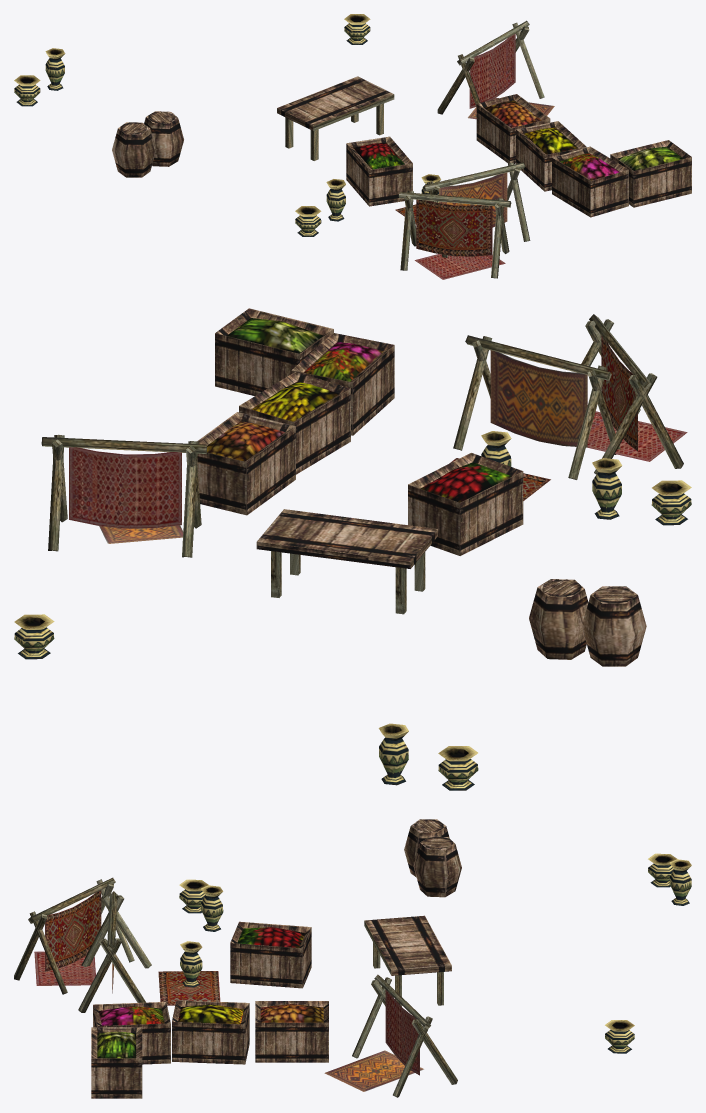
Rendered from kart_market_a_old.glb.
The picture shows the model from 3 angles, top to bottom: view 1: azimuth 30°, elevation 25°; view 2: azimuth 150°, elevation 25°; view 3: azimuth 270°, elevation 25°; orthographic projection. The views are drawn at different scales.
Visible parts, largest first — view 1: Object1018-Pivot; view 2: Object1018-Pivot; view 3: Object1018-Pivot.
Boxes of the visible parts, box(x1,y1,x2,y2) form: Object1018-Pivot: box(14, 14, 691, 279); Object1018-Pivot: box(14, 308, 691, 790); Object1018-Pivot: box(14, 819, 691, 1098).
Size of the model in its own units: 19.01 by 2.95 by 24.18.
1 material, 1 textured.
